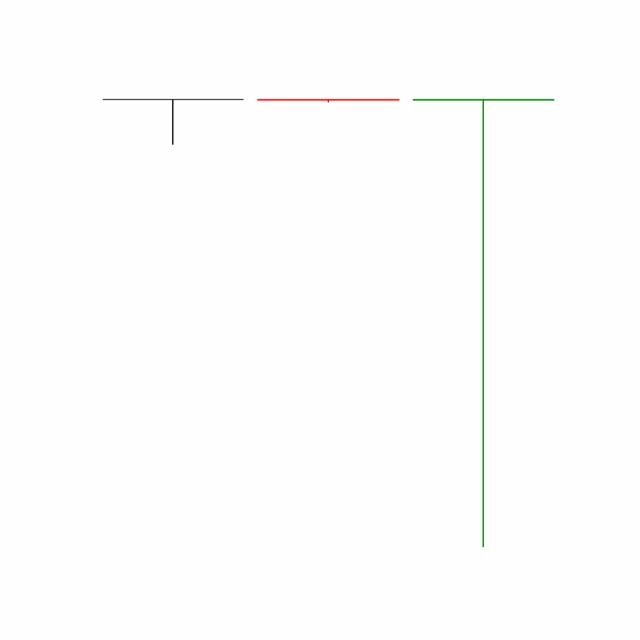Hammer: (405, 94, 561, 552)
